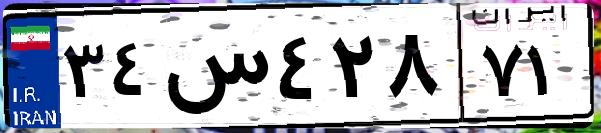1: (525, 38, 570, 115)
2: (330, 28, 385, 110)
3: (57, 26, 110, 100)
4: (270, 28, 330, 110), (110, 28, 158, 98)
7: (475, 38, 525, 113)
8: (385, 28, 445, 110)
س: (158, 20, 270, 120)
